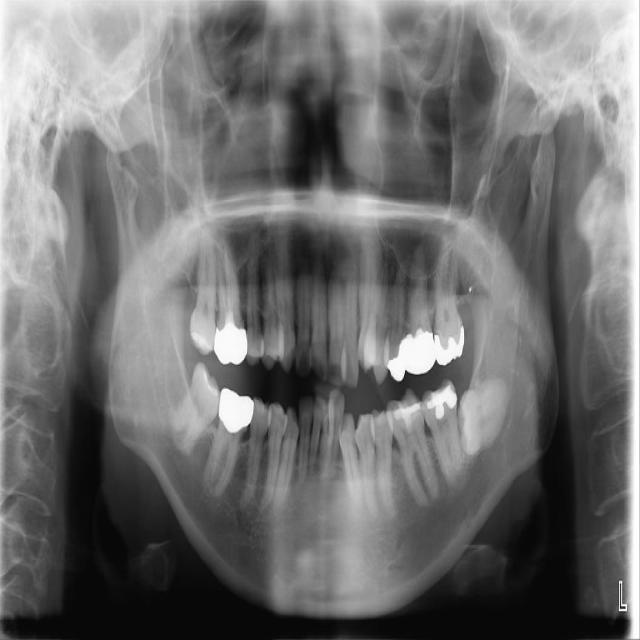Crown: (217, 387, 254, 434), (213, 322, 247, 368)
Filling: (421, 379, 457, 427), (402, 327, 435, 373), (433, 322, 466, 364), (386, 398, 422, 435), (384, 341, 405, 381), (190, 327, 211, 350)
Root Canal Treatment: (229, 259, 233, 303), (220, 275, 223, 302), (223, 302, 225, 309)
impacted tooth: (161, 364, 221, 453), (459, 380, 509, 452)
